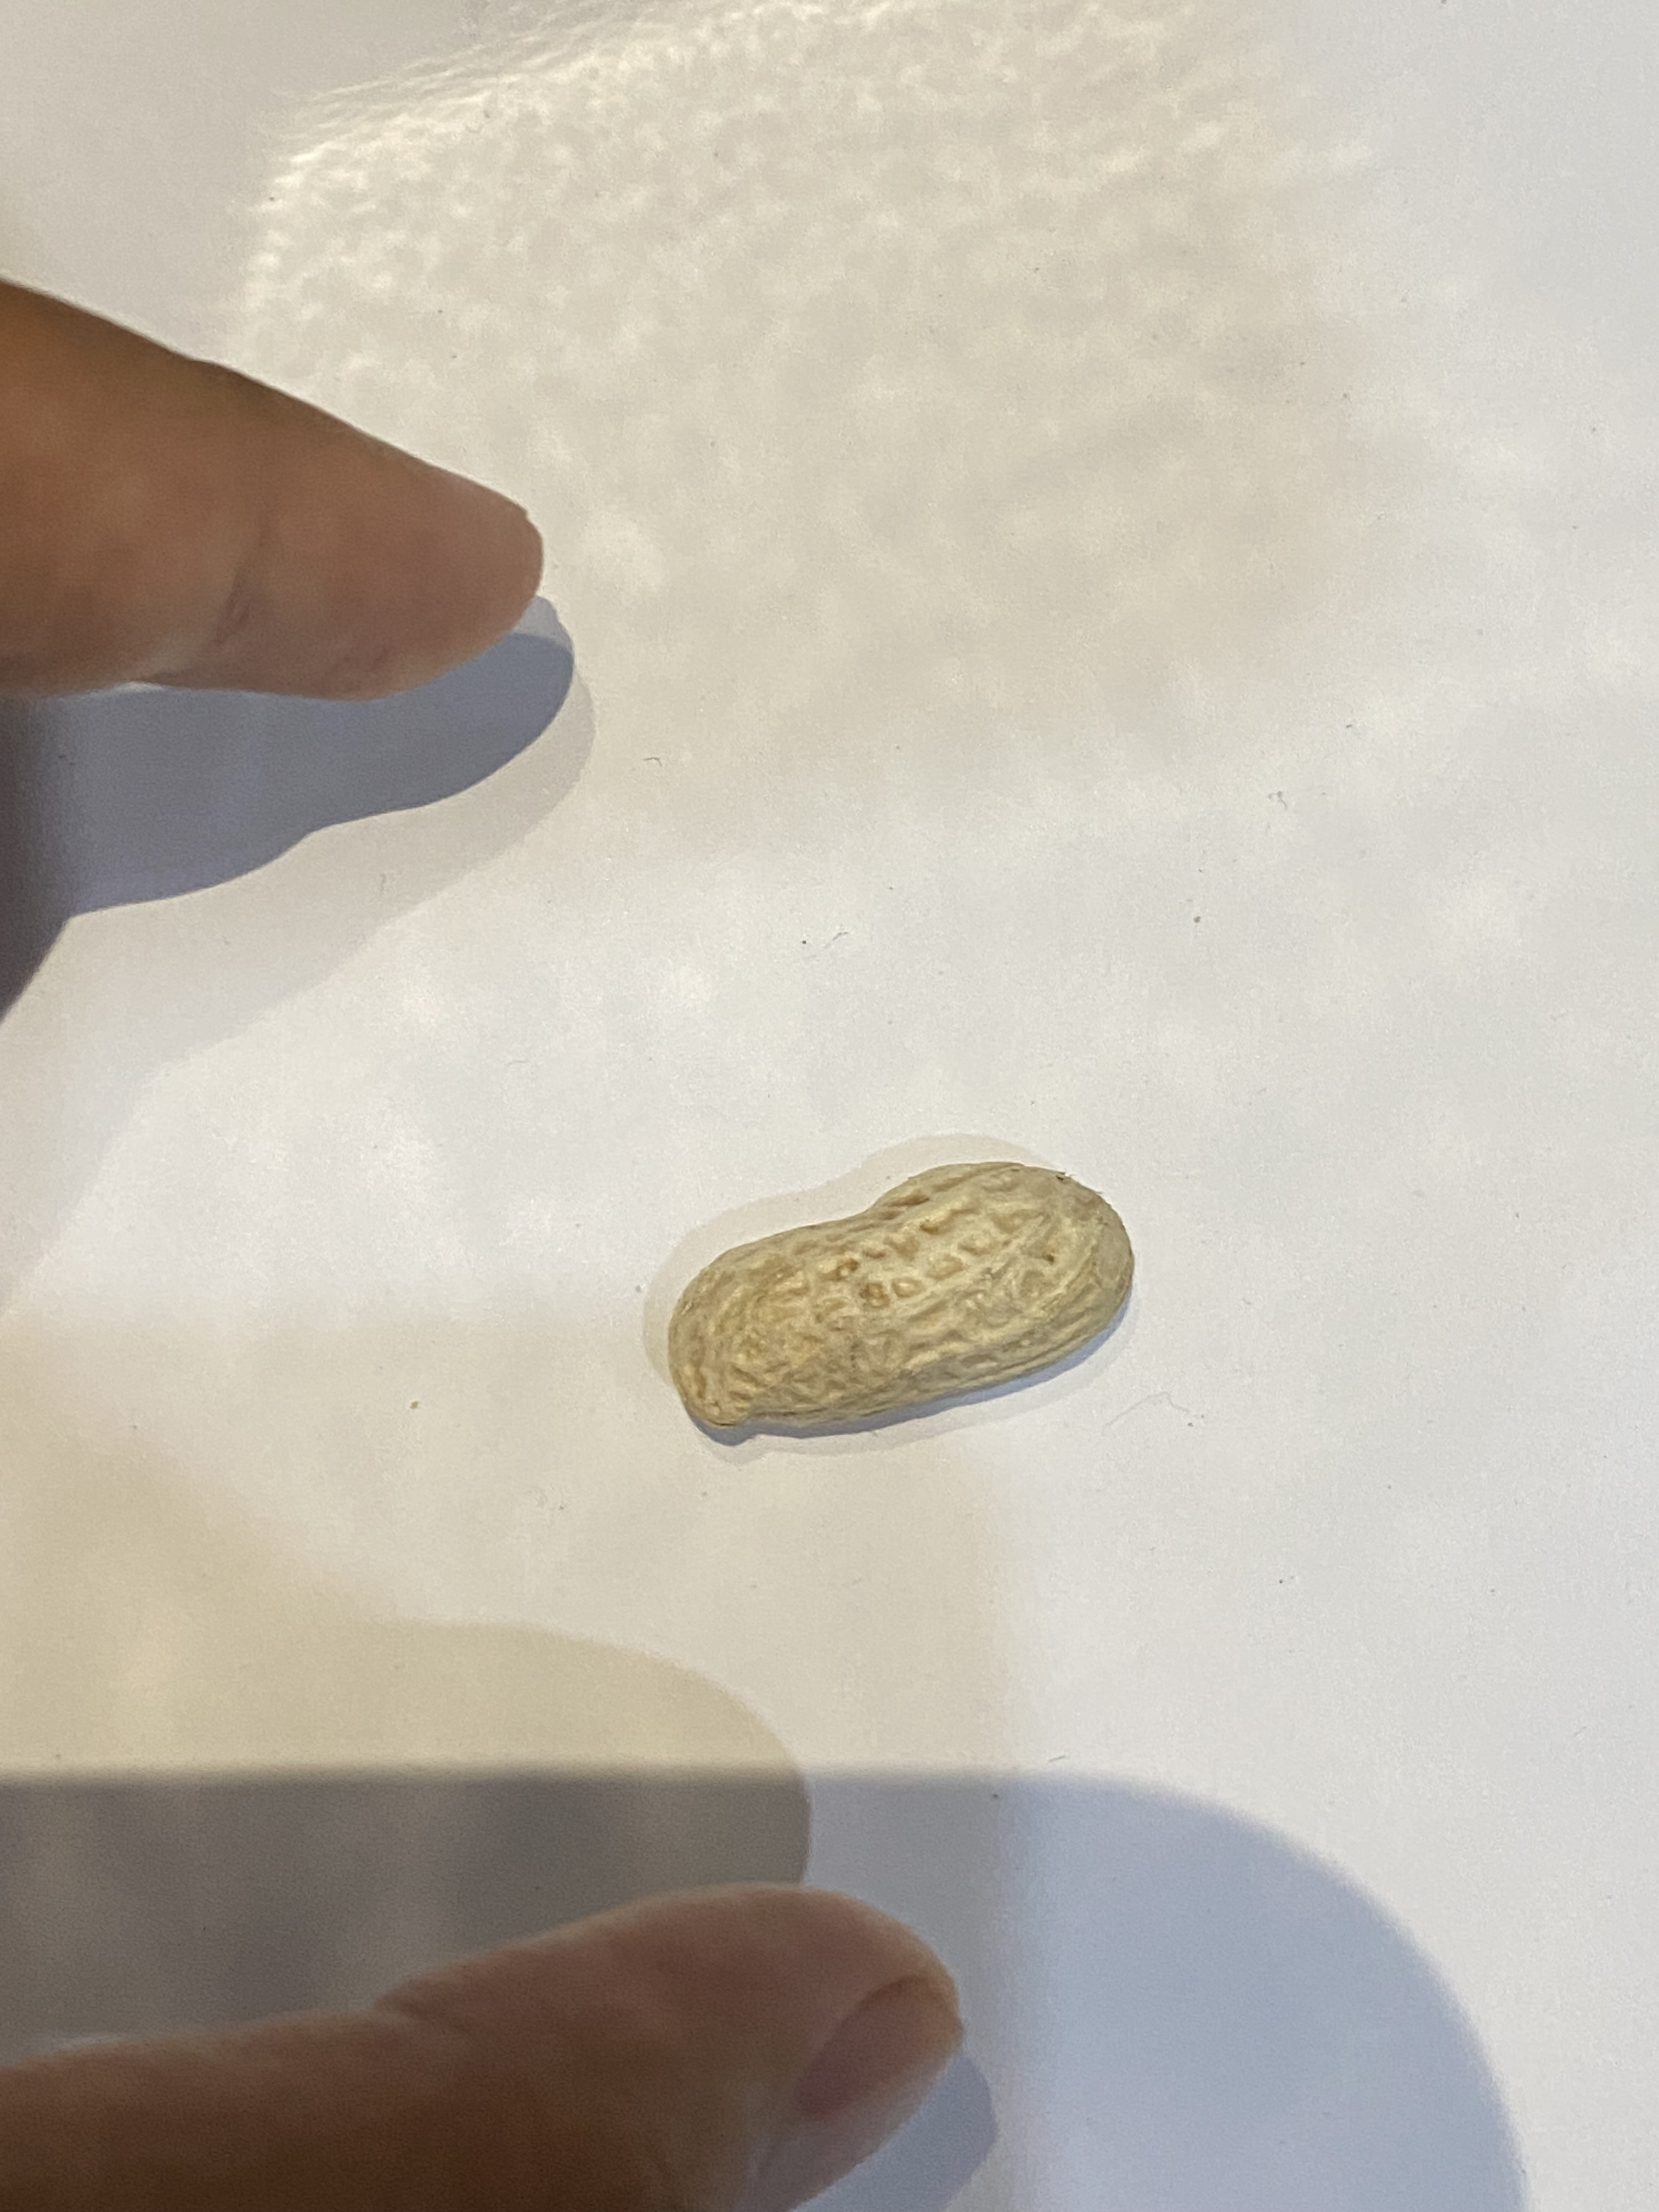kacang2: (662, 1141, 1154, 1460)
